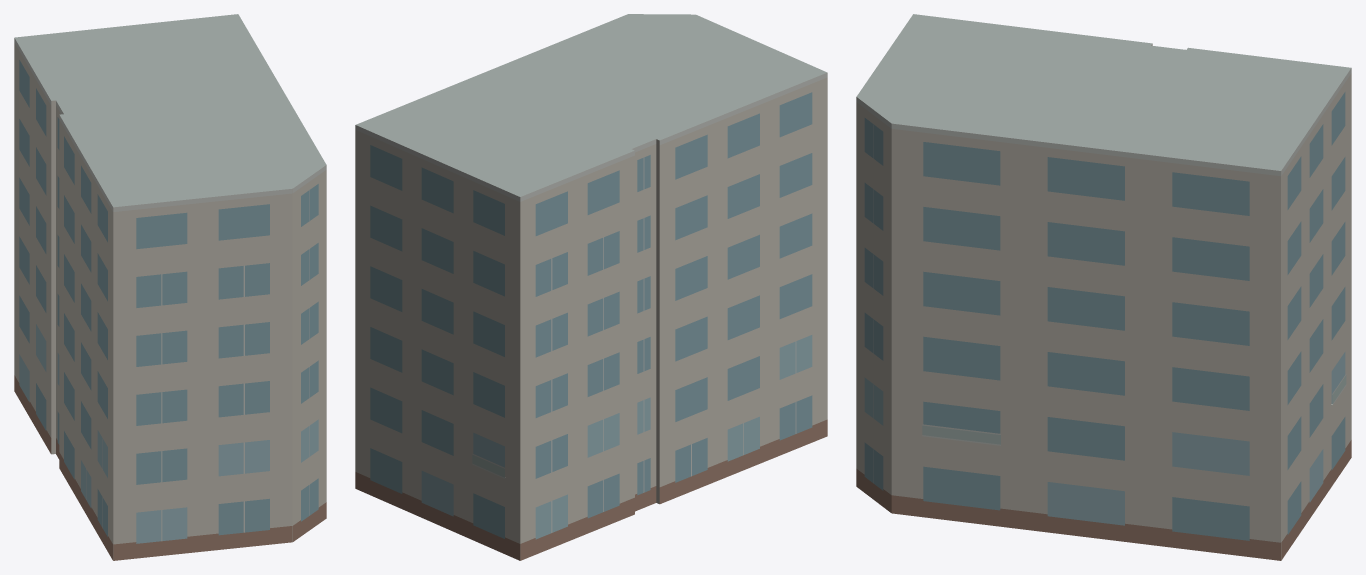
Rendered from survey-upis-32999745.glb.
3 renders of one model, left to right at view 1: azimuth 30°, elevation 25°; view 2: azimuth 150°, elevation 25°; view 3: azimuth 270°, elevation 25°, orthographic. The views are drawn at different scales.
Parts seen in each view (by area): view 1: survey-upis-32999745.tmp; view 2: survey-upis-32999745.tmp; view 3: survey-upis-32999745.tmp.
Part boxes in pixels (<box>): survey-upis-32999745.tmp: <box>14,14,326,560</box>; survey-upis-32999745.tmp: <box>355,14,827,560</box>; survey-upis-32999745.tmp: <box>856,14,1351,560</box>.
Size of the model in its own units: 15.83 by 18.3 by 21.07.
